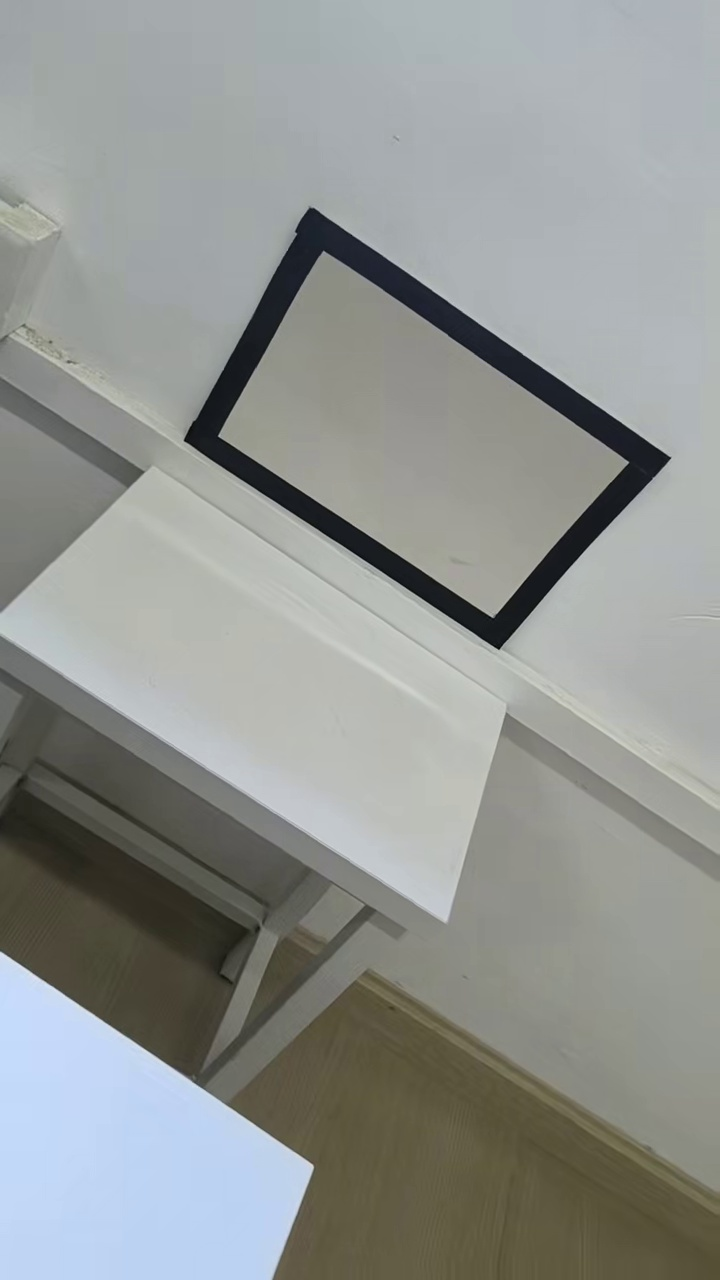board: (184, 213, 666, 648)
